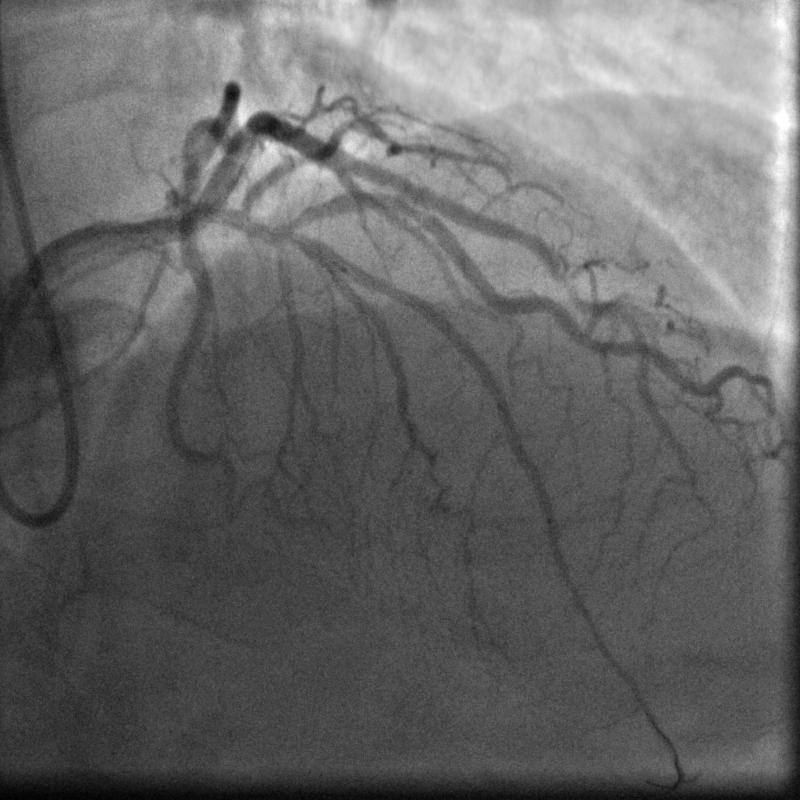Stenosis: (393, 192, 440, 228)
